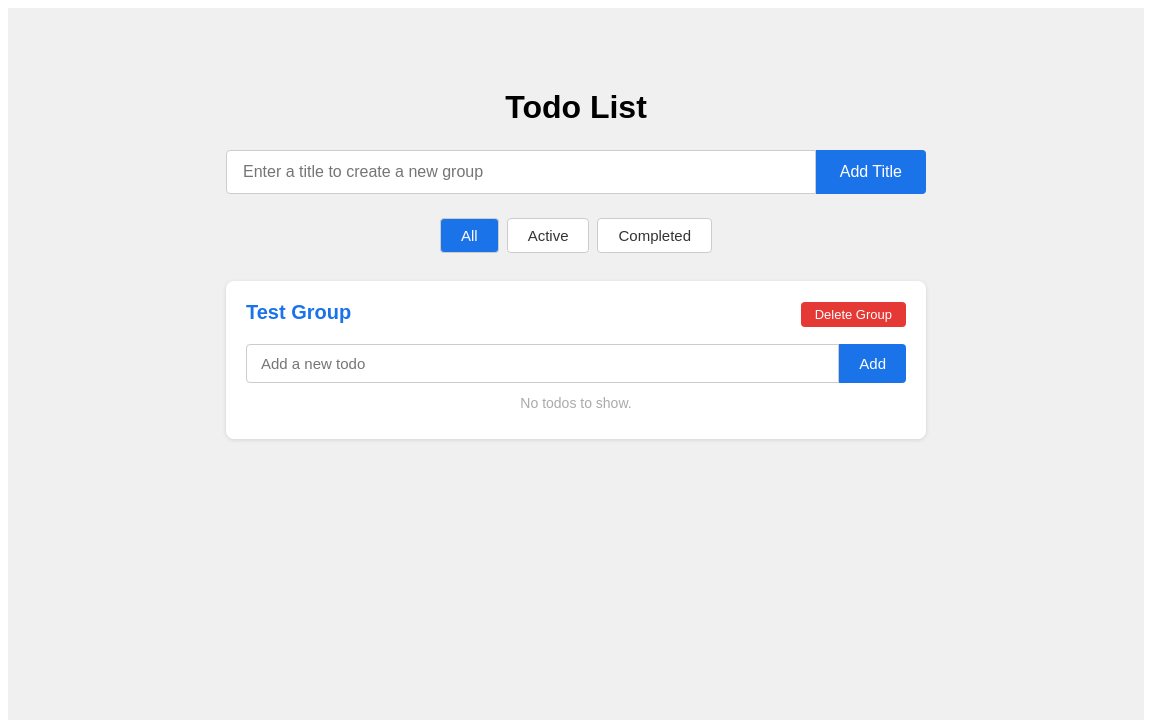
Test: Todo operations › adds a todo on Enter key
Expected: the heading "Test Group" is shown, [246,301,351,324]
Type "Buy groceries" into the field with test id "todo-input". click: [543, 364]
box: [246,344,839,383]
Then press Enter
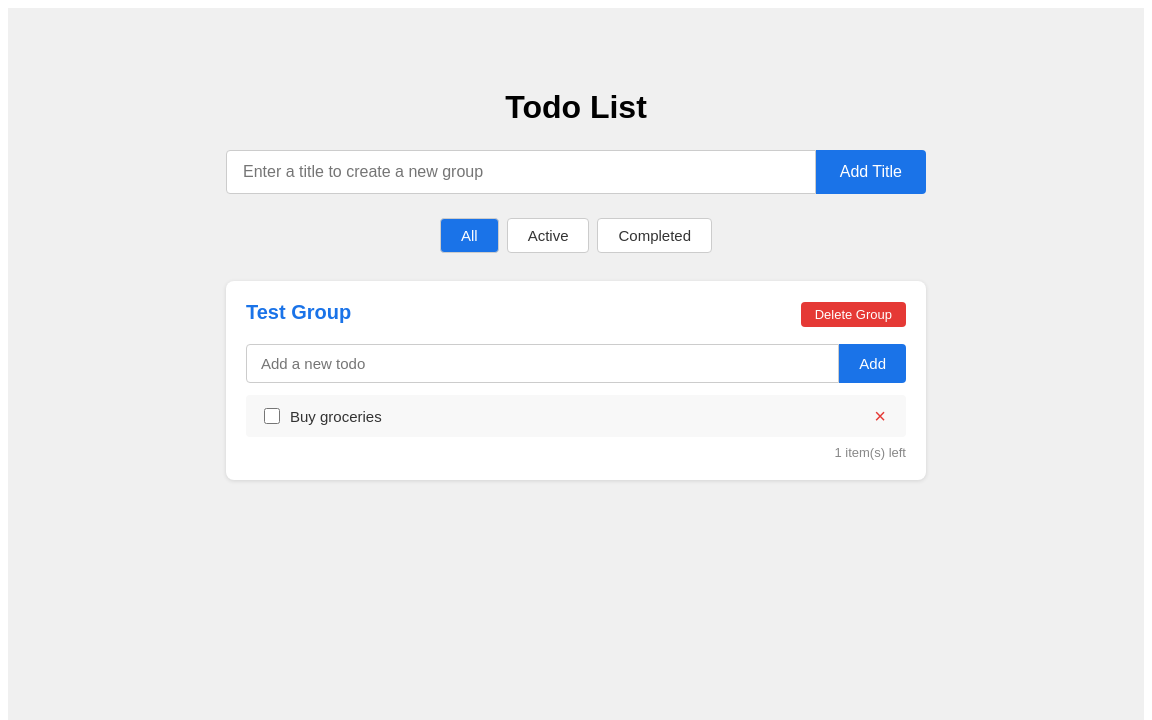
Expected: the text "Buy groceries" is shown, [290,408,382,425]
